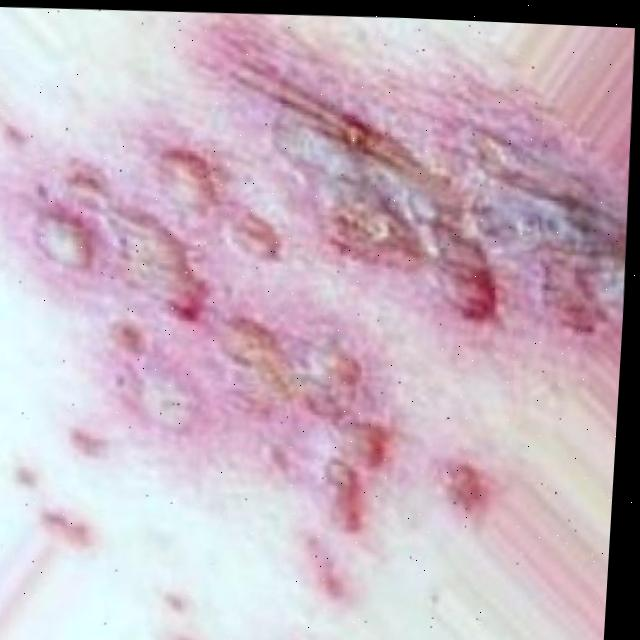Shingles: (0, 33, 638, 538), (305, 537, 358, 606), (160, 587, 208, 640), (36, 524, 96, 557)
